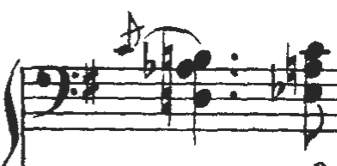bass_clef: (31, 53, 81, 130)
sharp: (80, 58, 105, 110)
